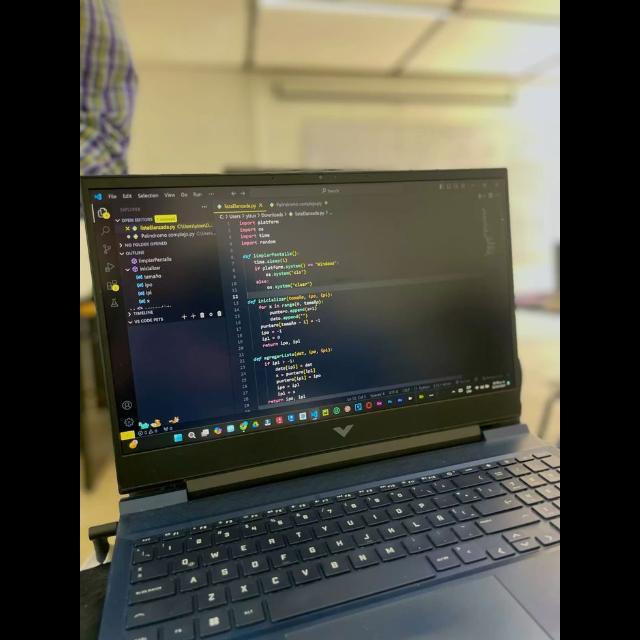laptop: (87, 162, 553, 640)
